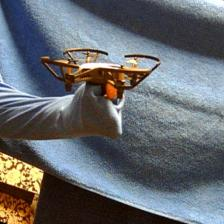drone: (39, 46, 160, 100)
